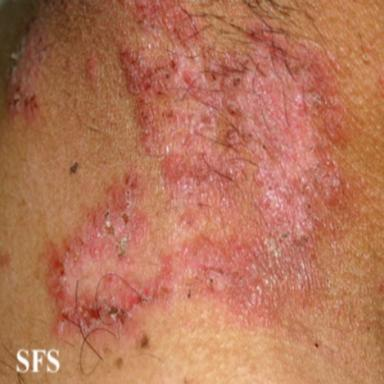Hailey-Hailey-Disease: (46, 0, 347, 338), (2, 8, 51, 123), (86, 52, 100, 92)
